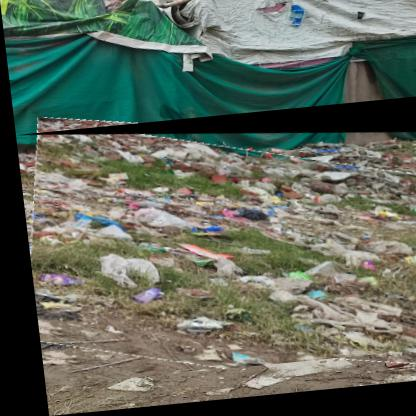Garbage: (13, 104, 416, 389)
